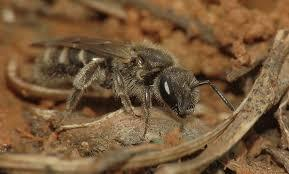Lasioglossum: (31, 29, 240, 137)
